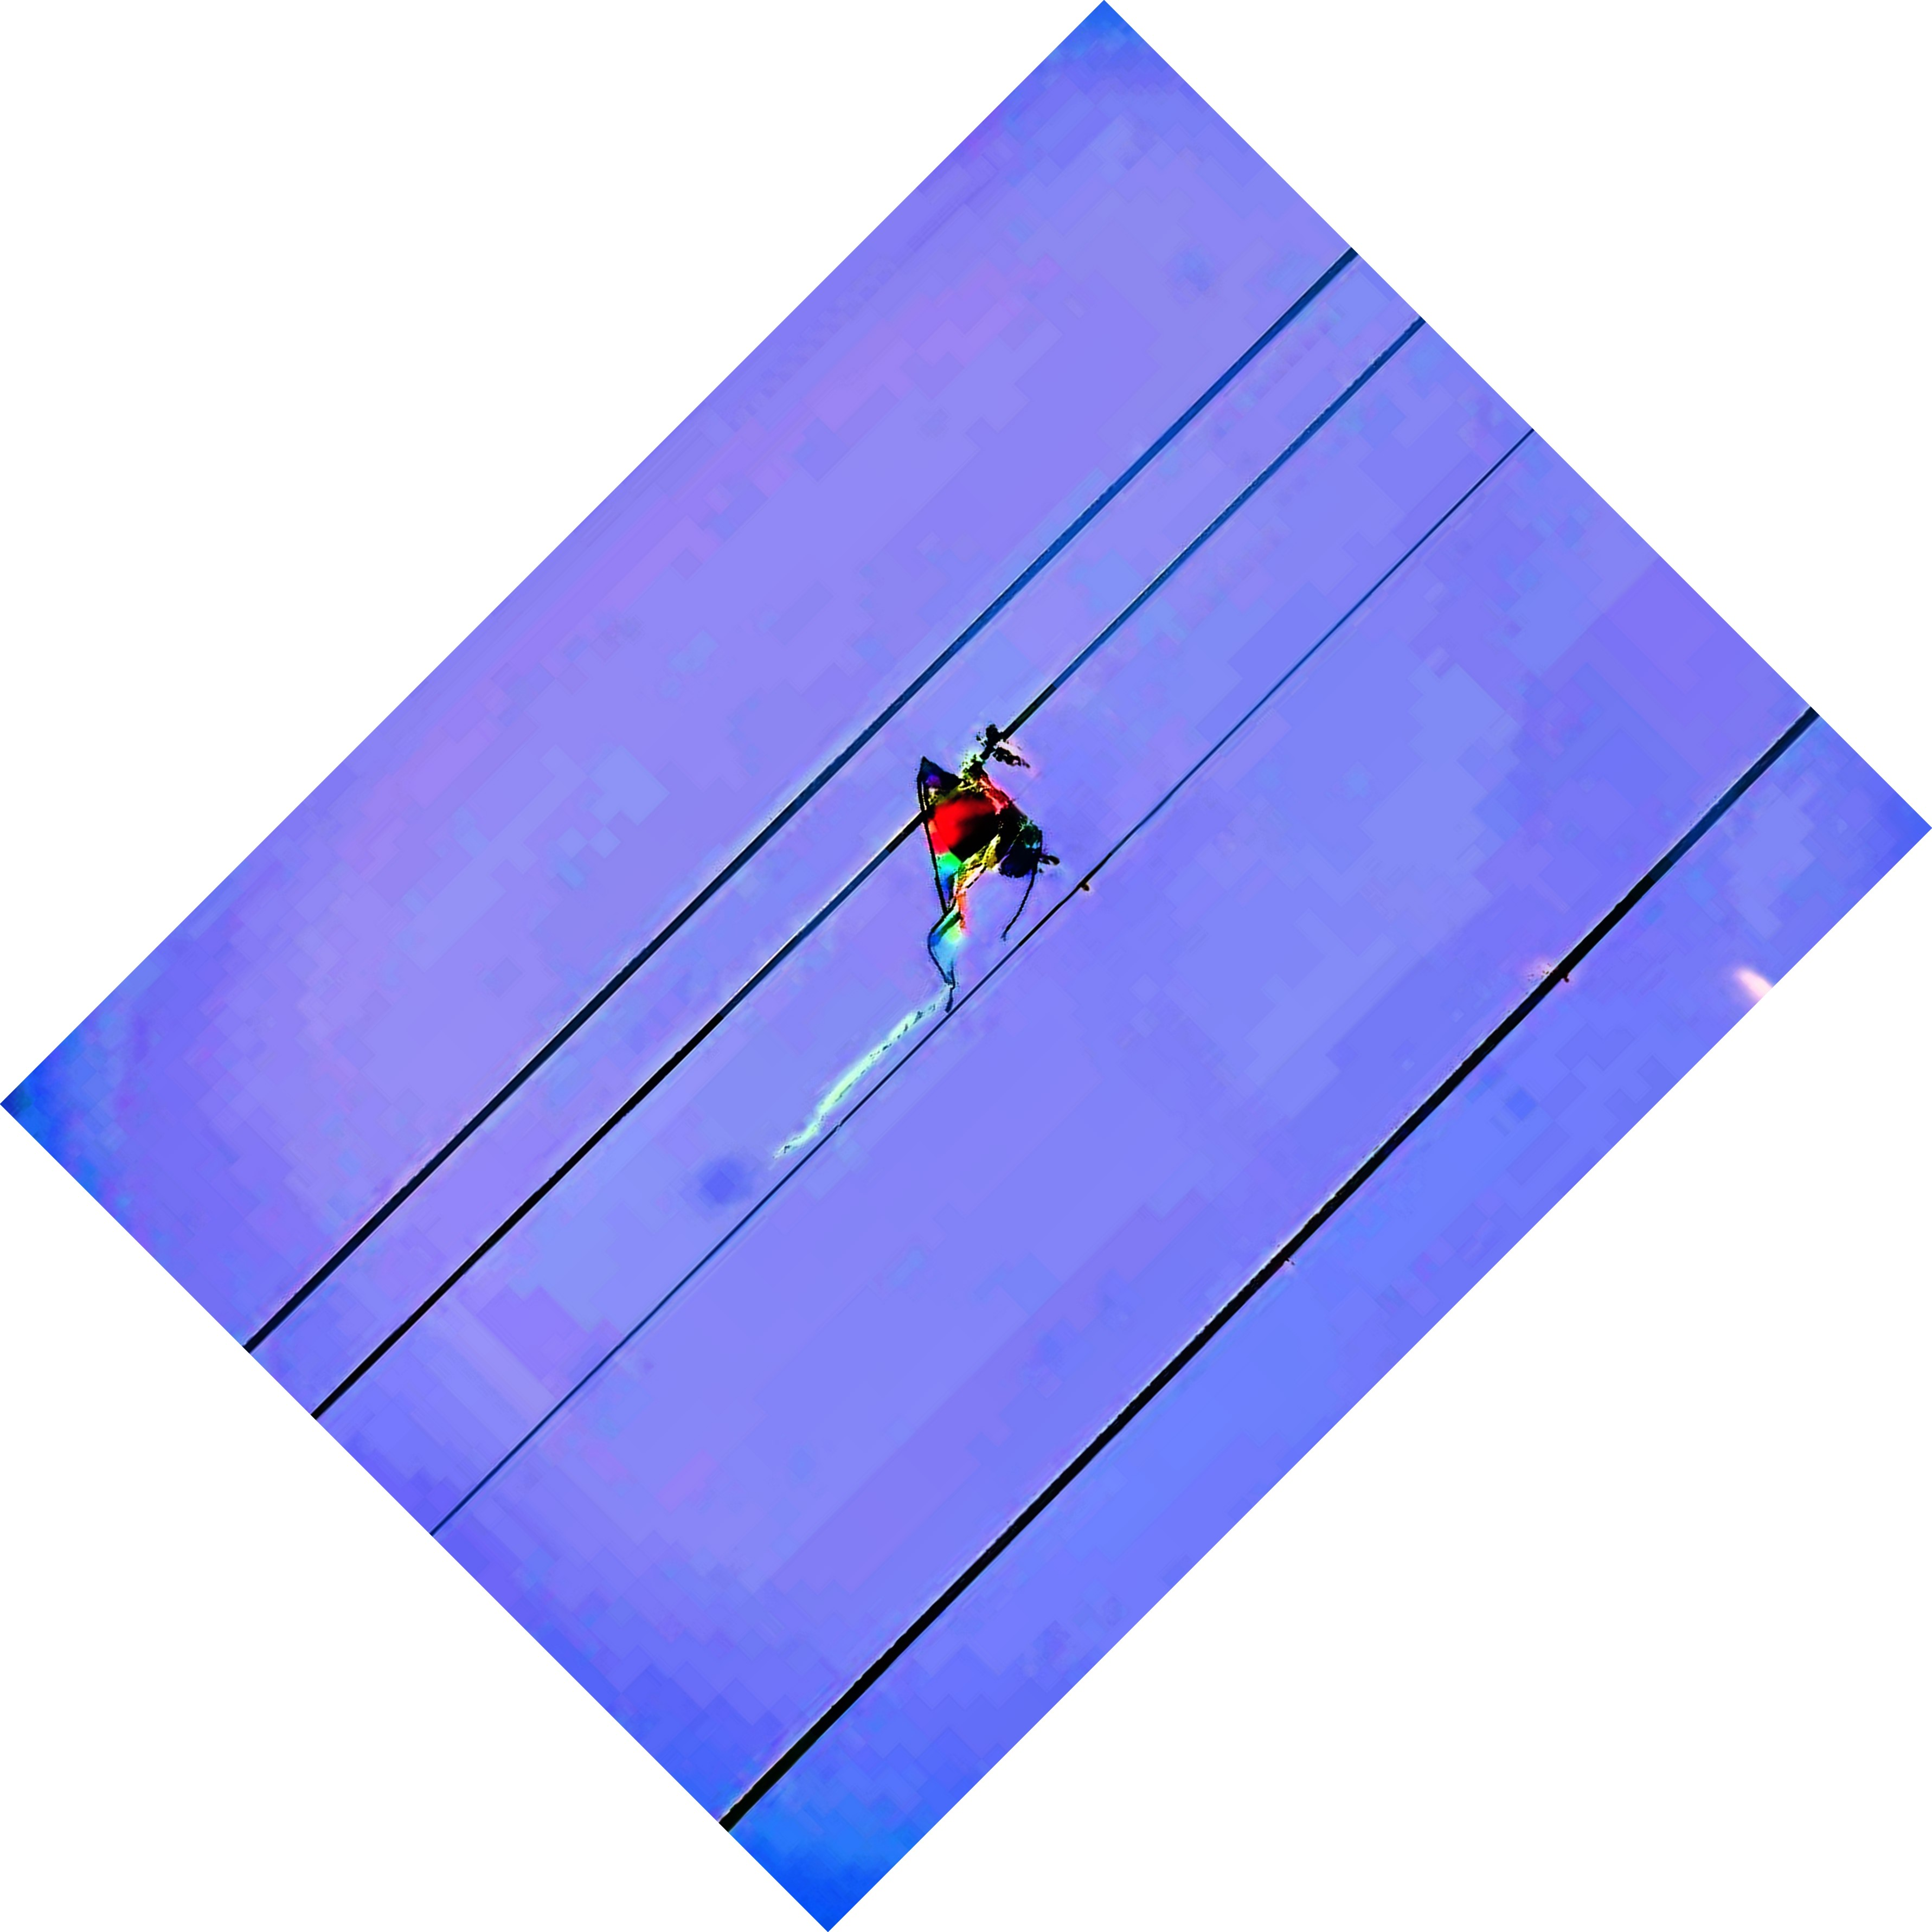wire foreign body: (862, 715, 1108, 1054)
